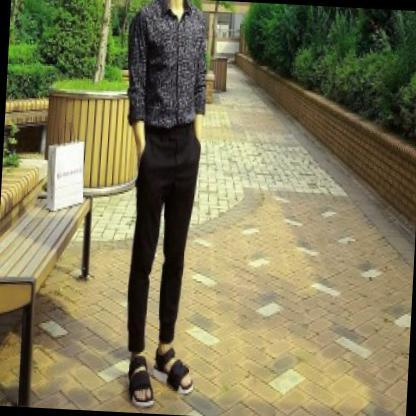no_safety-shoe: (143, 345, 201, 401), (121, 346, 157, 412)
